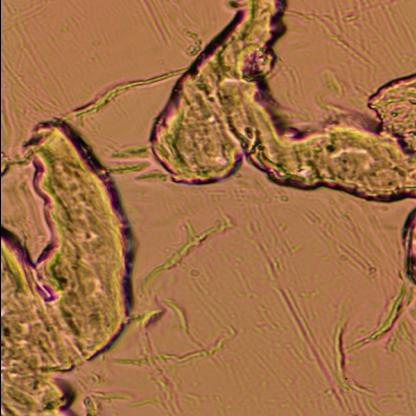Normal: (154, 0, 416, 233), (1, 108, 139, 416)
